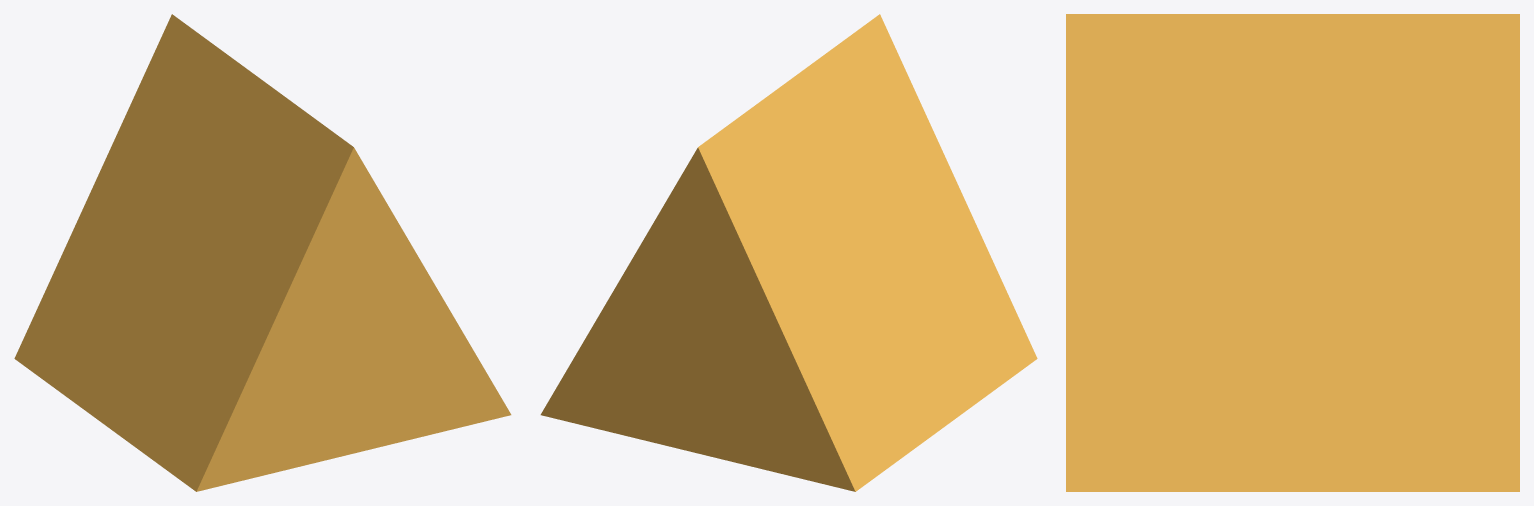
The model's file is triangular-prism-lite.glb.
3 renders of one model, left to right at view 1: azimuth 30°, elevation 25°; view 2: azimuth 150°, elevation 25°; view 3: azimuth 270°, elevation 25°, orthographic. The views are drawn at different scales.
Parts seen in each view (by area): view 1: Triangular prism; view 2: Triangular prism; view 3: Triangular prism.
Part boxes in pixels (bbox=[...]): Triangular prism: bbox=[14, 14, 511, 491]; Triangular prism: bbox=[540, 14, 1037, 491]; Triangular prism: bbox=[1066, 14, 1519, 491].
Size of the model in its own units: 1.4 by 1.3 by 1.4.
